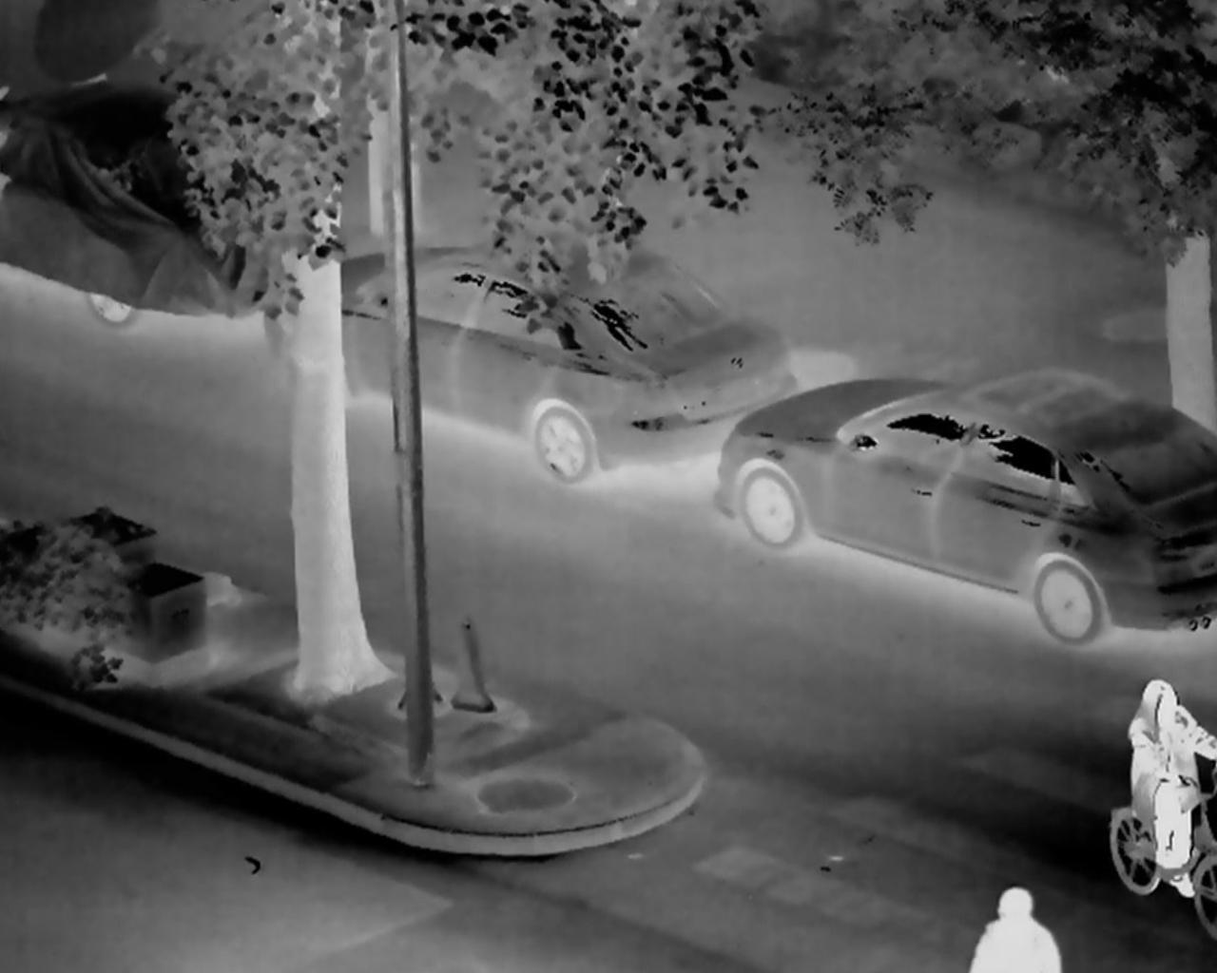person: (1084, 650, 1217, 905), (958, 856, 1068, 973)
